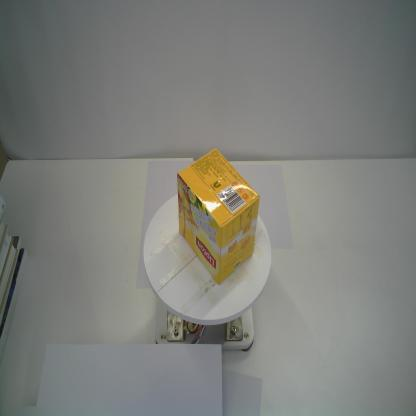Instant Drink: (176, 146, 261, 286)
